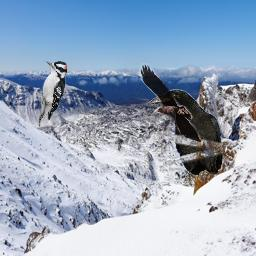Crow: (149, 89, 224, 186), (139, 63, 202, 144)
Woodpecker: (38, 58, 70, 127)
